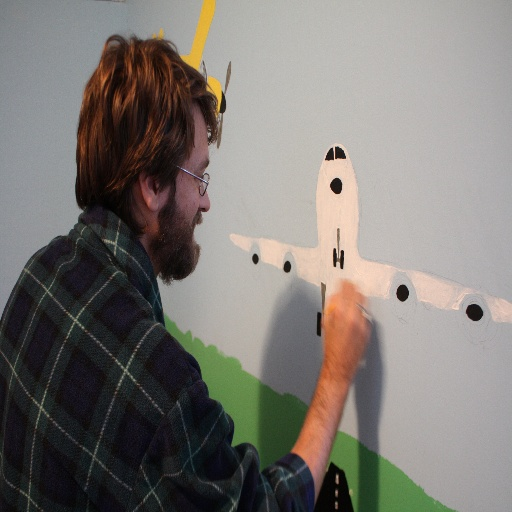hand: (320, 275, 372, 377)
